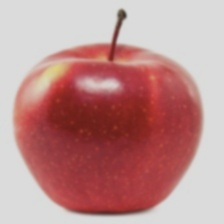apple: (14, 31, 173, 180)
